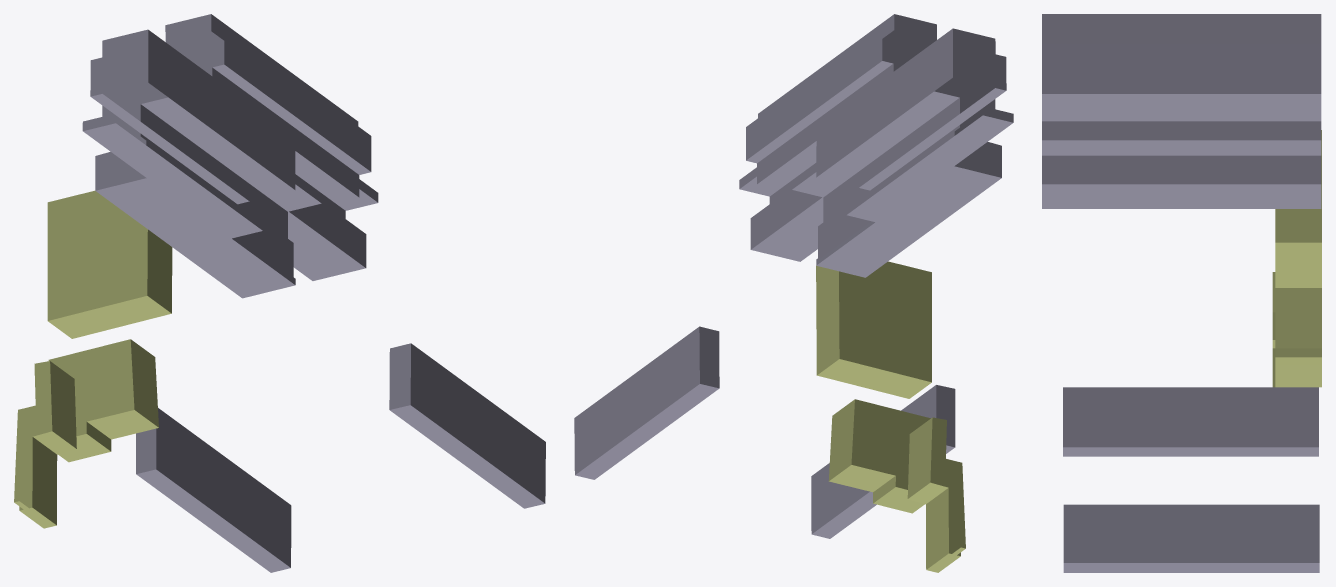
3 renders of one model, left to right at view 1: azimuth 30°, elevation 25°; view 2: azimuth 150°, elevation 25°; view 3: azimuth 270°, elevation 25°, orthographic. The views are drawn at different scales.
Parts seen in each view (by area): view 1: 0_2_0_1_2_1_2_3; view 2: 0_2_0_1_2_1_2_3; view 3: 0_2_0_1_2_1_2_3.
Boxes of the visible parts, x1=… form: 0_2_0_1_2_1_2_3: x1=14, y1=14, x2=545, y2=572; 0_2_0_1_2_1_2_3: x1=574, y1=14, x2=1013, y2=572; 0_2_0_1_2_1_2_3: x1=1042, y1=14, x2=1321, y2=572.
Bounding box in the file's own units: 56.15 × 60.59 × 36.06.
